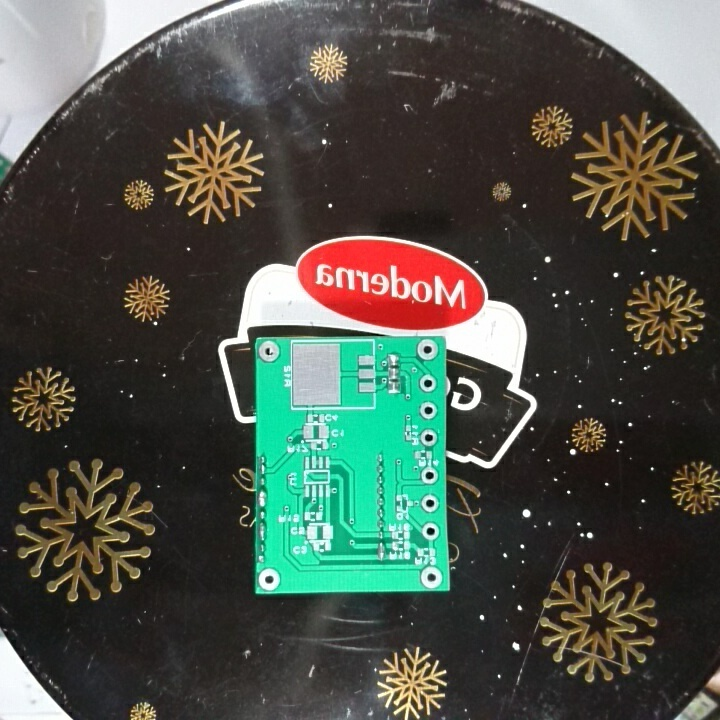F: (256, 338, 282, 367), (418, 563, 445, 589), (257, 566, 284, 592), (415, 335, 439, 363), (417, 371, 439, 396), (417, 399, 439, 421), (421, 520, 442, 543), (420, 492, 441, 514), (419, 465, 439, 488), (419, 426, 439, 448)
P: (257, 486, 268, 507), (376, 540, 386, 563), (258, 519, 267, 539)
